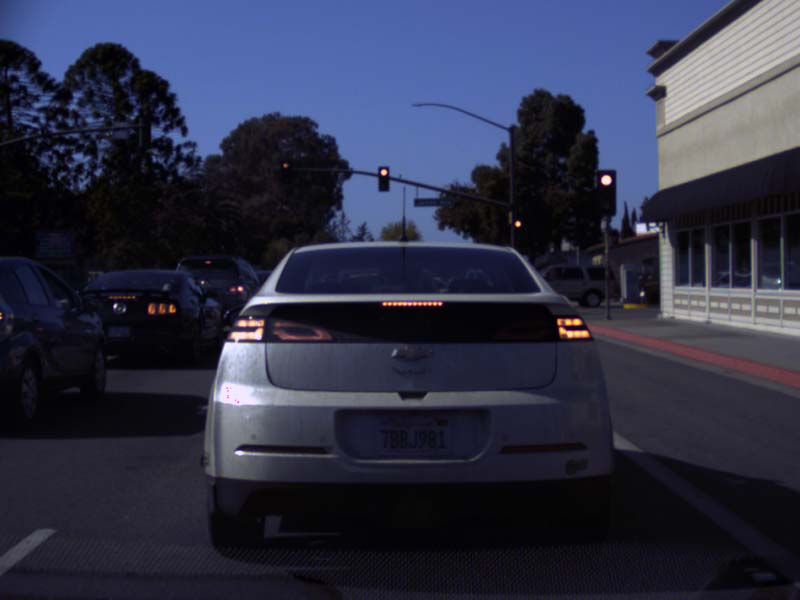Red: (597, 170, 616, 215), (376, 166, 390, 193), (279, 155, 290, 184)
Yellow: (513, 208, 523, 234)
